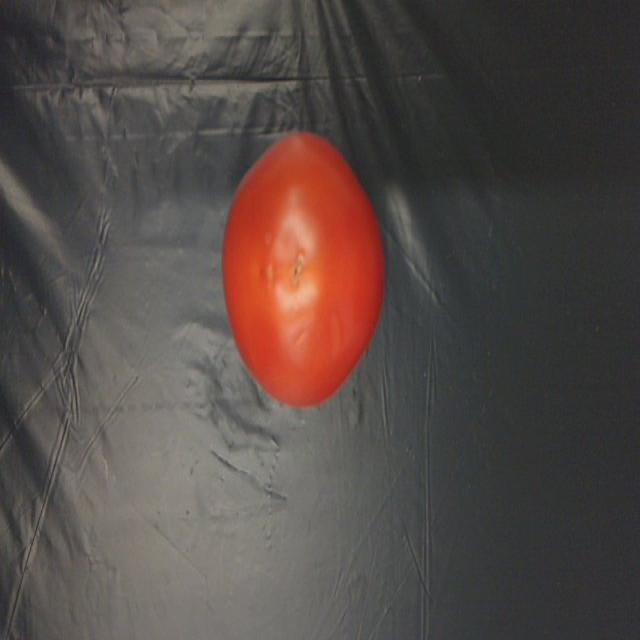kirmizi: (226, 128, 396, 421)
